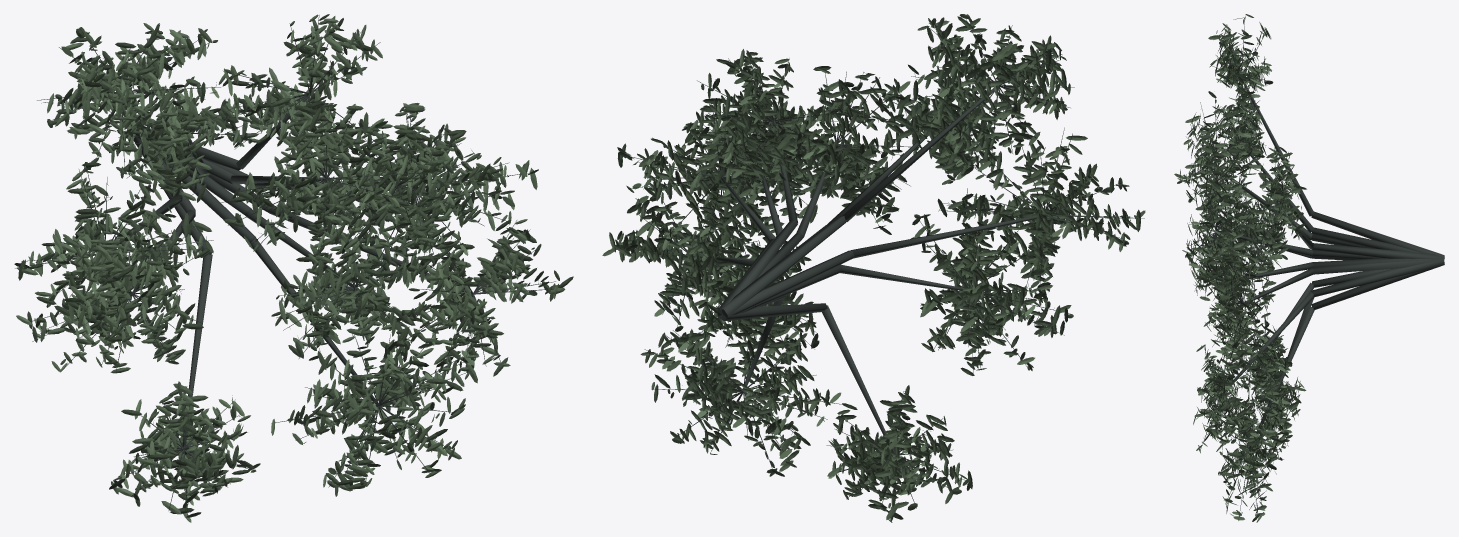
File: tree_m6.obj
3 views of the same model, side by side, from view 1: azimuth 30°, elevation 25°; view 2: azimuth 150°, elevation 25°; view 3: azimuth 270°, elevation 25° (orthographic). The views are drawn at different scales.
Bounding box in the file's own units: 1.78 × 1.6 × 1.02.
1 material, 1 textured.
